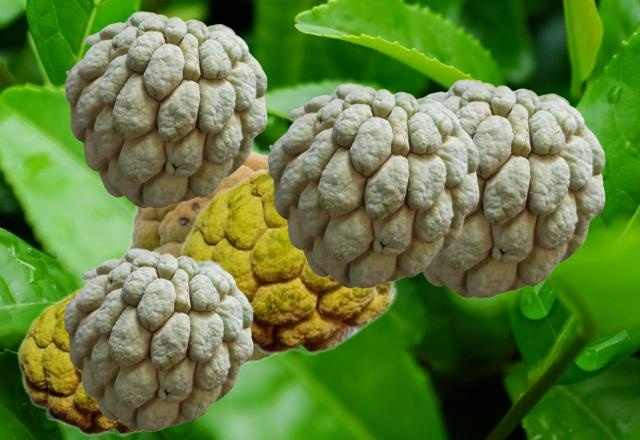atis: (267, 83, 478, 287), (179, 166, 401, 354), (422, 79, 604, 297), (64, 11, 266, 207), (63, 248, 252, 430), (126, 147, 276, 362), (16, 285, 143, 435)
